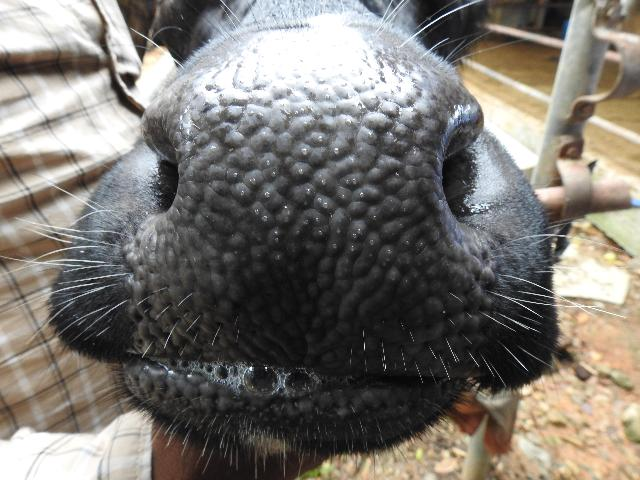Muzzle: (168, 72, 470, 364)
